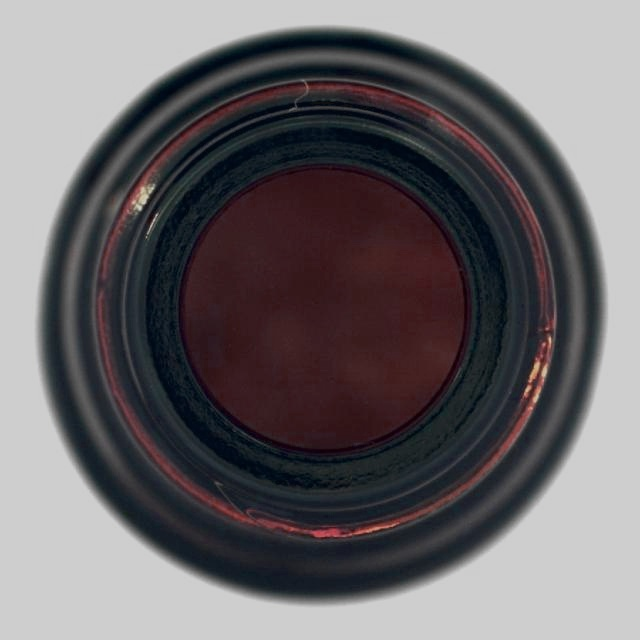bad-contamination: (36, 27, 609, 609)
